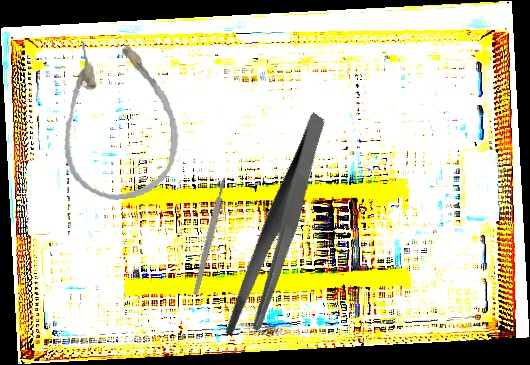Cannula: (51, 29, 186, 206)
Dressing Forceps: (180, 111, 379, 348)
Scalpel Handle: (192, 177, 228, 296)
